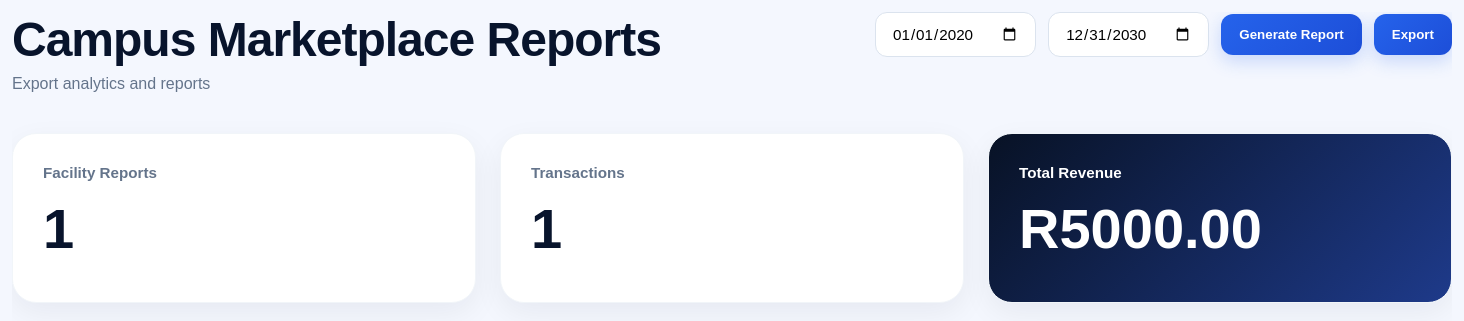
Test case: Reports Component › opens export dropdown
Click the button "Export": (1413, 35) [1374,14,1452,55]
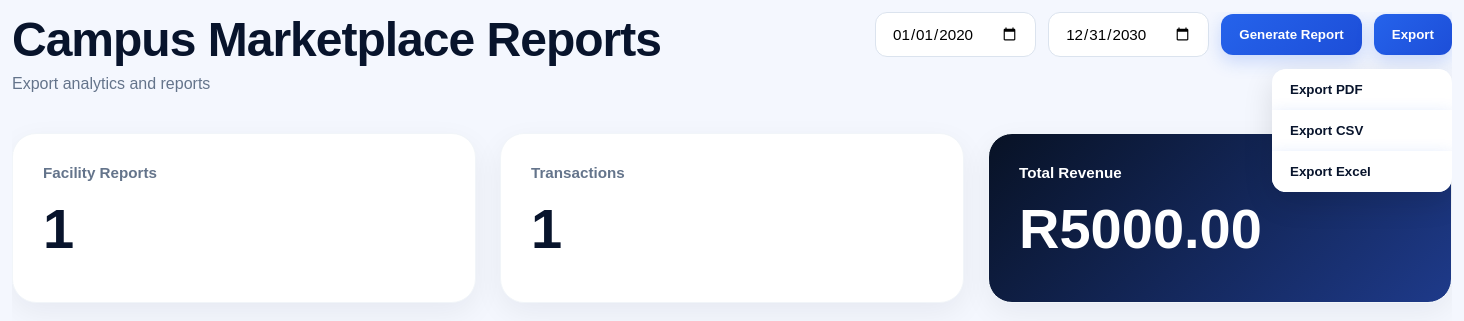
Now the button "Export PDF" is shown, box [1272,69,1452,110]
